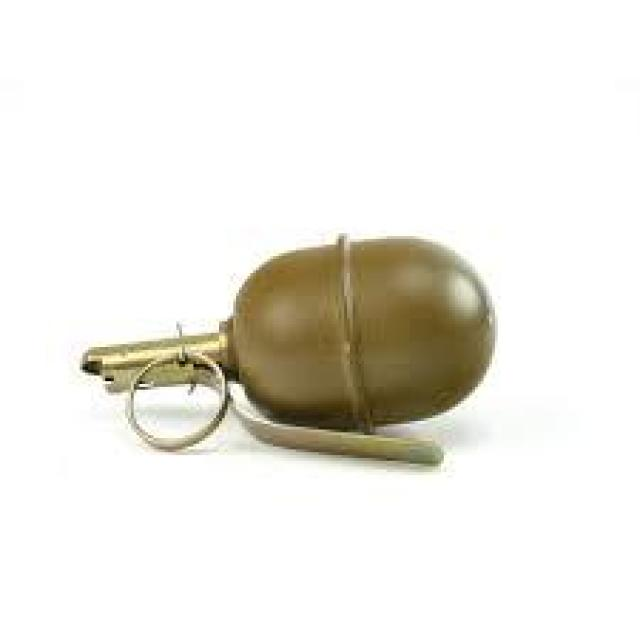grenade: (72, 216, 522, 467)
